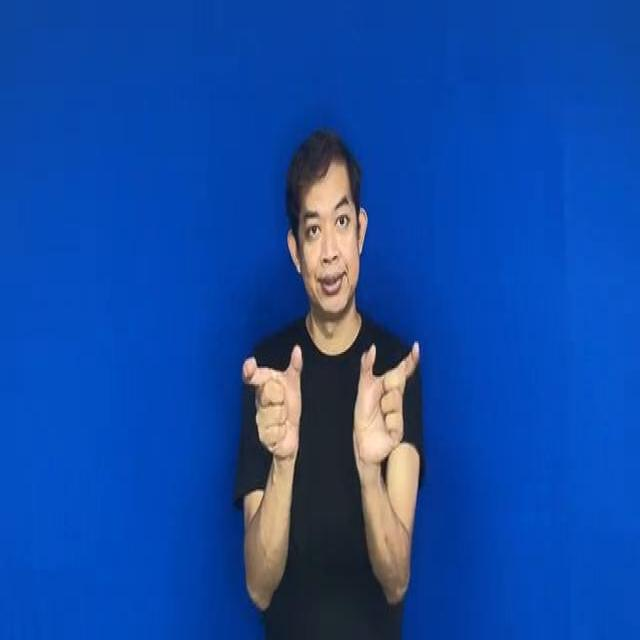crab: (230, 330, 430, 469)
